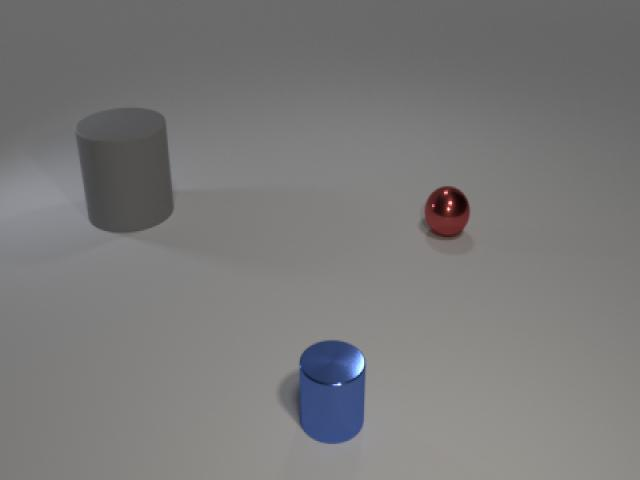cylinder: (70, 98, 182, 238), (290, 331, 373, 448)
round ball: (420, 181, 475, 242)
